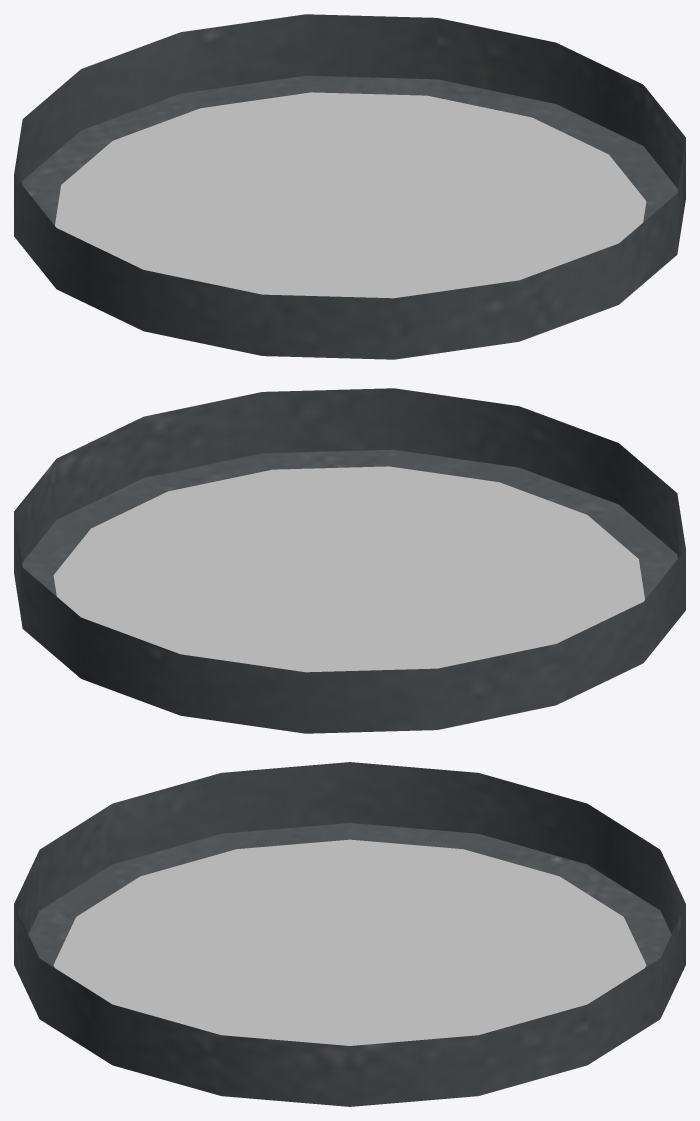
The model's file is Ceiling_lamp_2.FBX.
The picture shows the model from 3 angles, top to bottom: view 1: azimuth 30°, elevation 25°; view 2: azimuth 150°, elevation 25°; view 3: azimuth 270°, elevation 25°; orthographic projection.
Parts seen in each view (by area): view 1: Ceiling_lamp_2; view 2: Ceiling_lamp_2; view 3: Ceiling_lamp_2.
Boxes of the visible parts, x1,y1,x2,y2 form: Ceiling_lamp_2: (14,14,685,359); Ceiling_lamp_2: (14,388,685,733); Ceiling_lamp_2: (14,762,685,1106).
Bounding box in the file's own units: 0.2 × 0.02 × 0.2.
